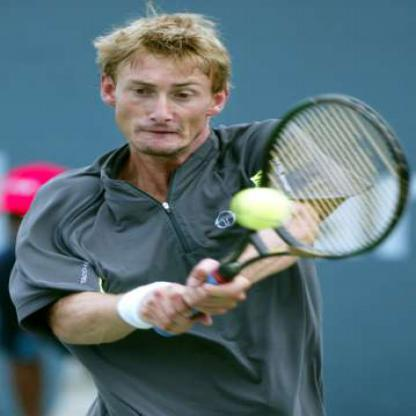face: (114, 22, 218, 157)
